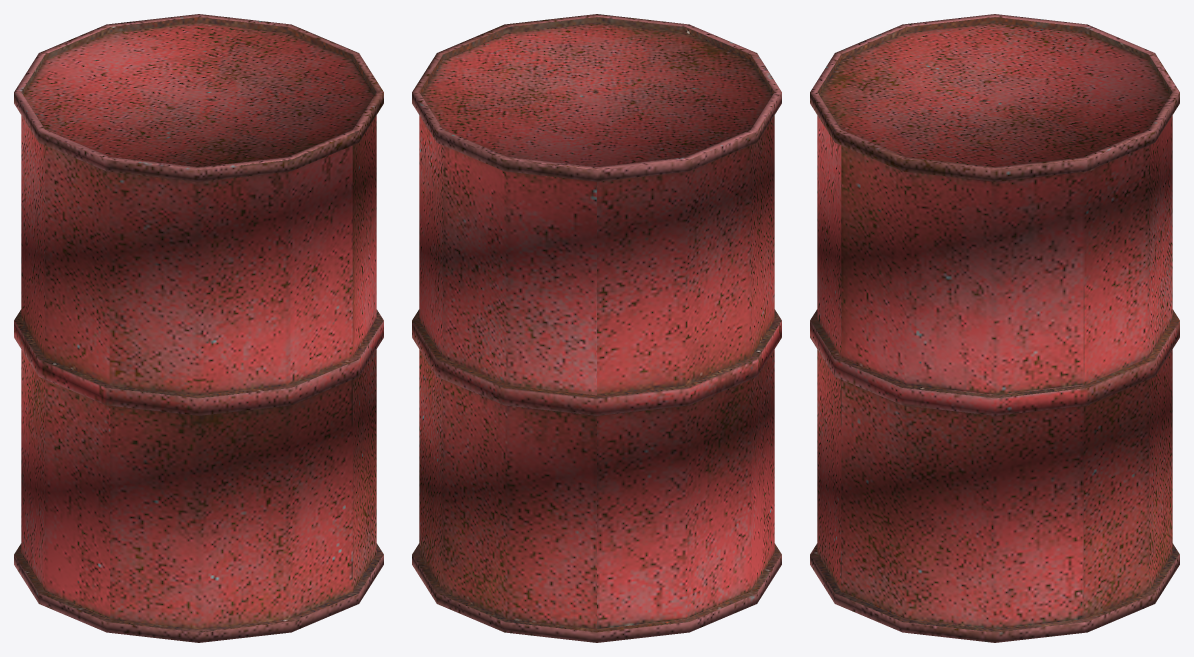
File: rusty_barrel1.fbx
3 renders of one model, left to right at view 1: azimuth 30°, elevation 25°; view 2: azimuth 150°, elevation 25°; view 3: azimuth 270°, elevation 25°, orthographic.
Parts seen in each view (by area): view 1: Cylinder; view 2: Cylinder; view 3: Cylinder.
Part boxes in pixels (x1,y1,x2,y2): Cylinder: [14, 14, 383, 642]; Cylinder: [412, 14, 781, 642]; Cylinder: [810, 14, 1179, 642].
Bounding box in the file's own units: 208 × 294 × 208.
Materials: 1 (1 with a texture image).
